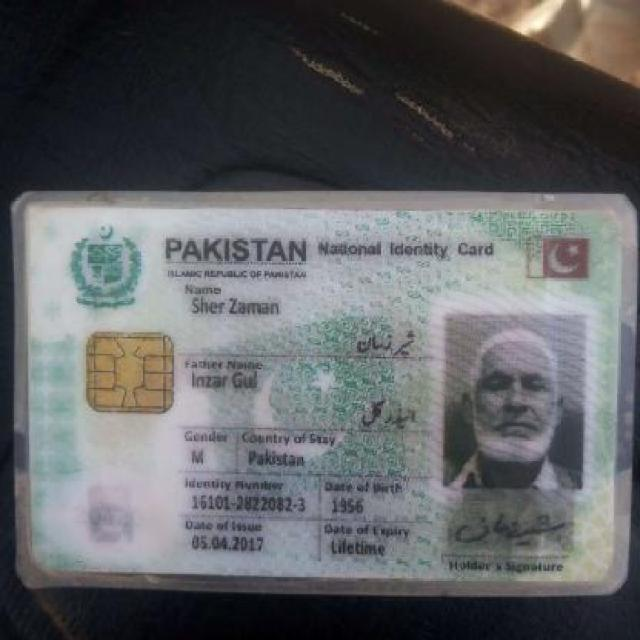Front: (13, 192, 624, 590)
